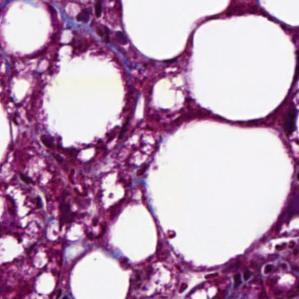inflammation: (44, 184, 85, 234), (222, 255, 268, 299)
